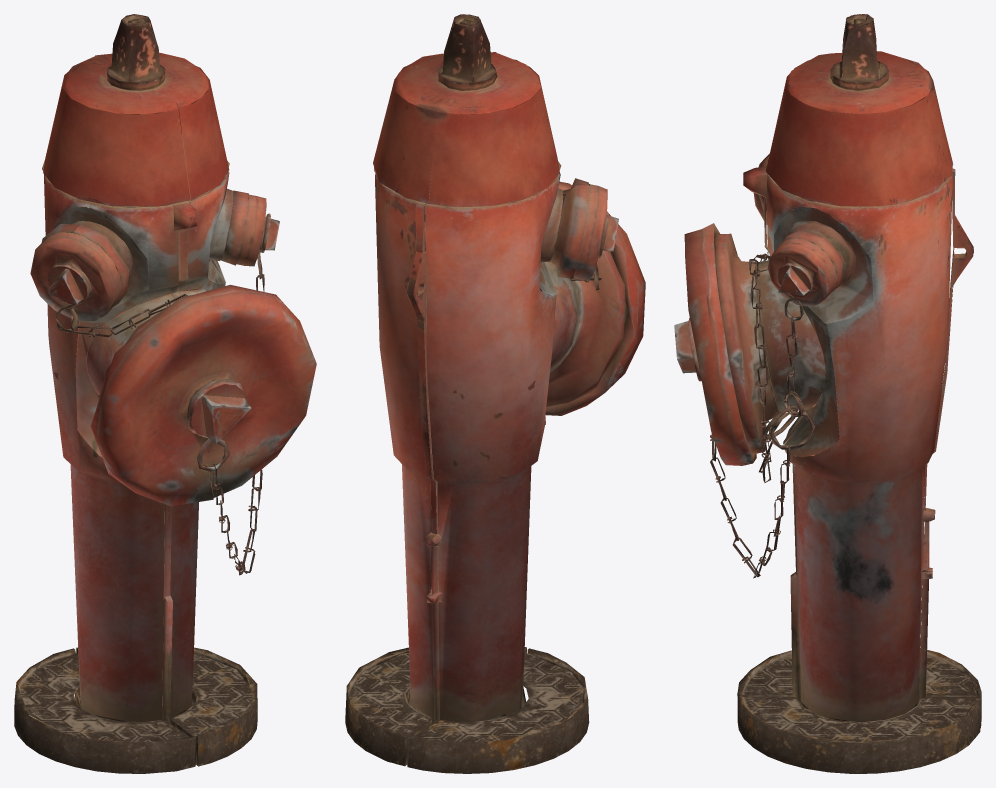
Rendered from fire_hydrant.glb.
The picture shows the model from 3 angles, left to right: view 1: azimuth 30°, elevation 25°; view 2: azimuth 150°, elevation 25°; view 3: azimuth 270°, elevation 25°; orthographic projection.
Visible parts, largest first — view 1: fire_hydrant_aged, fire_hydrant_cap_01_aged, fire_hydrant_cap_03_aged, fire_hydrant_chain_aged, fire_hydrant_cap_02_aged; view 2: fire_hydrant_aged, fire_hydrant_cap_01_aged, fire_hydrant_cap_03_aged; view 3: fire_hydrant_aged, fire_hydrant_cap_01_aged, fire_hydrant_chain_aged, fire_hydrant_cap_02_aged.
Boxes of the visible parts, box(x1,y1,x2,y2) form: fire_hydrant_aged: box(14, 14, 257, 773); fire_hydrant_cap_01_aged: box(90, 284, 316, 506); fire_hydrant_cap_03_aged: box(30, 232, 121, 321); fire_hydrant_chain_aged: box(55, 217, 266, 575); fire_hydrant_cap_02_aged: box(236, 194, 279, 266); fire_hydrant_aged: box(345, 14, 627, 773); fire_hydrant_cap_01_aged: box(545, 181, 645, 415); fire_hydrant_cap_03_aged: box(573, 184, 618, 280); fire_hydrant_aged: box(714, 14, 981, 773); fire_hydrant_cap_01_aged: box(674, 223, 756, 465); fire_hydrant_chain_aged: box(710, 251, 815, 578); fire_hydrant_cap_02_aged: box(767, 238, 837, 306).
Size of the model in its own units: 0.2738 by 0.8008 by 0.3173.
1 material, 1 textured.
